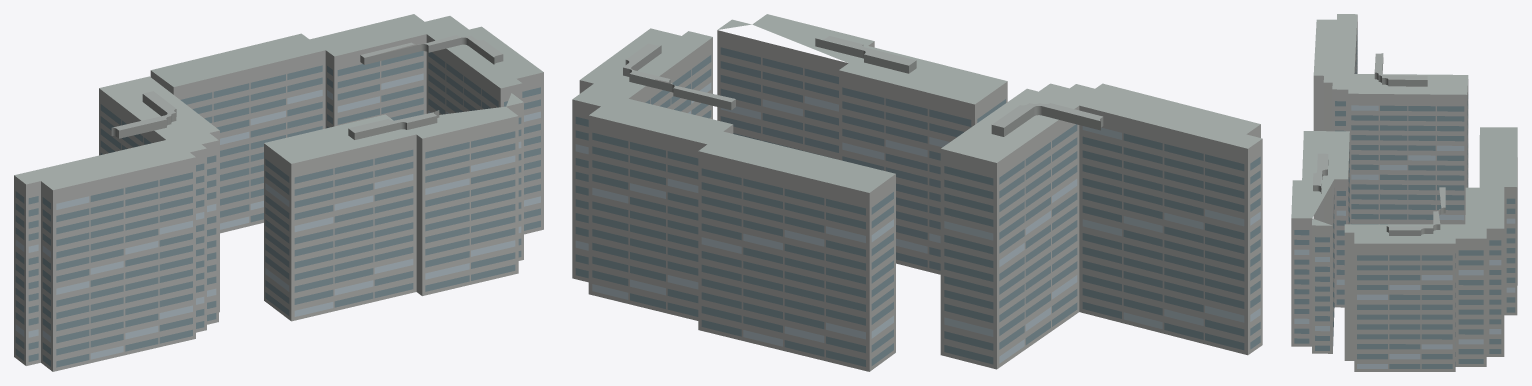
File: apt-a13183204.glb
3 views of the same model, side by side, from view 1: azimuth 30°, elevation 25°; view 2: azimuth 150°, elevation 25°; view 3: azimuth 270°, elevation 25° (orthographic). The views are drawn at different scales.
Visible parts, largest first — view 1: apt-a13183204; view 2: apt-a13183204; view 3: apt-a13183204.
Boxes of the visible parts, x1=… form: apt-a13183204: x1=14, y1=14, x2=543, y2=371; apt-a13183204: x1=572, y1=14, x2=1262, y2=371; apt-a13183204: x1=1291, y1=14, x2=1517, y2=371.
Bounding box in the file's own units: 139 × 47.81 × 63.46.
